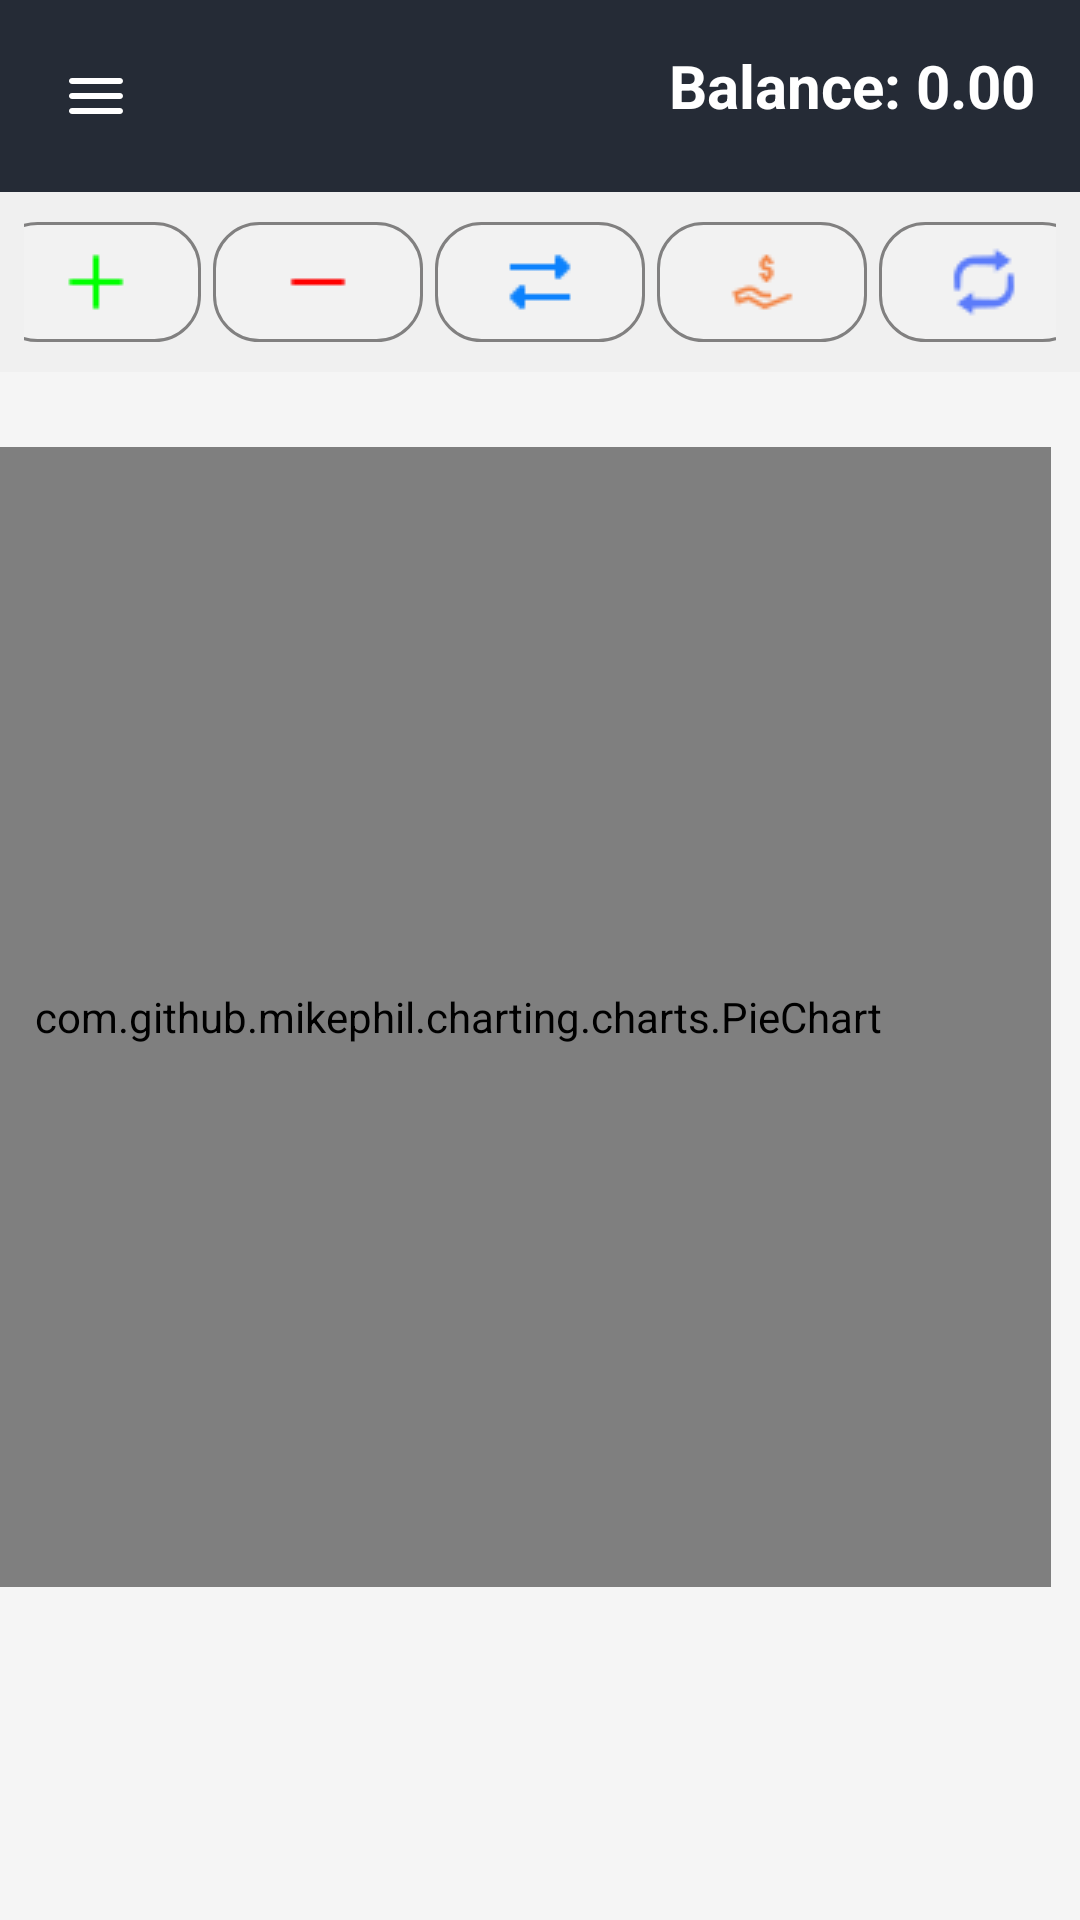

Where icons sit on this 1080px x 1920px app screen, as [x1=x1, y1=y1, x2=x2, y2=y2]:
Add: [x1=24, y1=222, x2=201, y2=342]
Drawer Menu: [x1=69, y1=78, x2=123, y2=114]
loan: [x1=657, y1=222, x2=867, y2=342]
refresh: [x1=879, y1=222, x2=1056, y2=342]
remove: [x1=213, y1=222, x2=423, y2=342]
transfer: [x1=435, y1=222, x2=645, y2=342]
